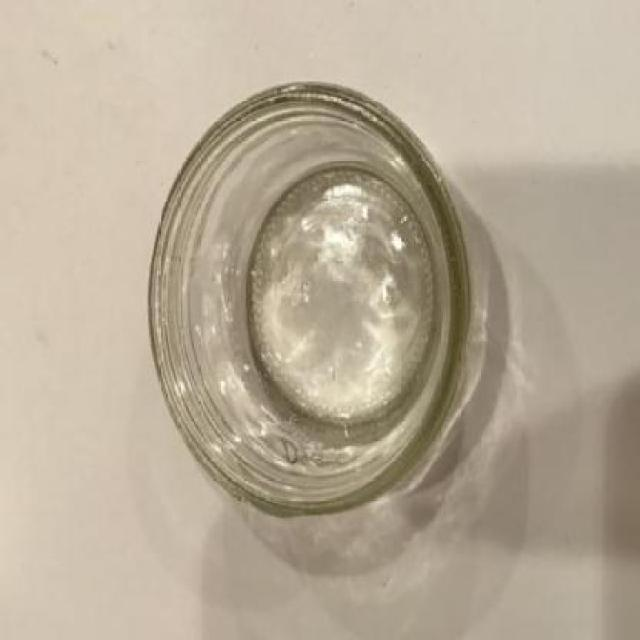kaca: (146, 80, 472, 518)
